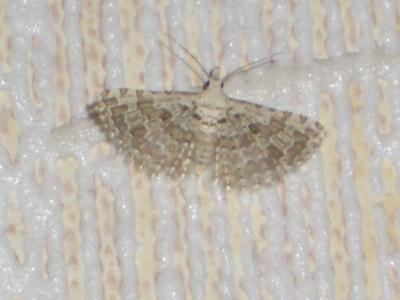Alucitidae: (79, 31, 325, 195)
moth: (77, 29, 323, 193)
